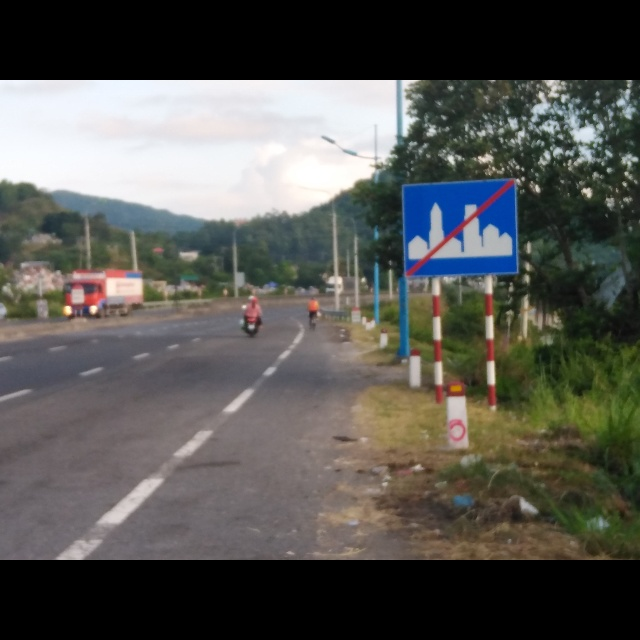Hết khu đông dân cư: (399, 178, 518, 281)
